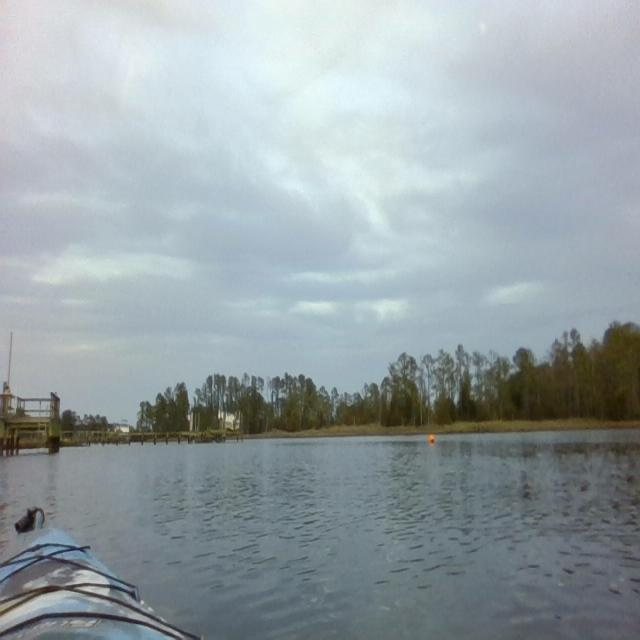Buoy: (428, 431, 436, 446)
